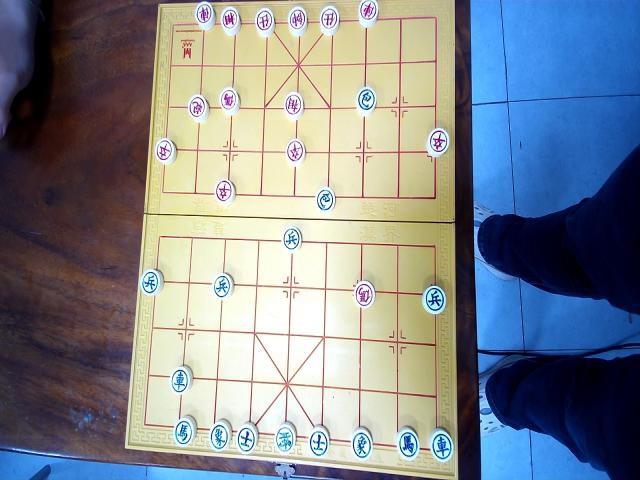piece: (429, 428, 453, 462), (396, 427, 419, 460), (173, 416, 196, 447), (236, 422, 258, 454), (351, 427, 372, 460), (209, 420, 231, 451), (426, 128, 449, 157), (275, 422, 296, 453), (170, 366, 192, 395), (422, 286, 445, 313), (309, 426, 329, 457), (255, 7, 275, 38), (188, 94, 209, 123), (356, 87, 376, 117), (220, 6, 240, 36), (140, 269, 163, 295), (219, 87, 240, 115), (354, 280, 375, 308), (214, 179, 235, 207), (288, 6, 307, 36), (155, 138, 176, 165), (195, 2, 215, 30), (320, 6, 339, 35), (212, 273, 233, 299), (281, 226, 301, 253), (284, 92, 303, 120), (286, 139, 305, 167), (359, 0, 378, 27), (316, 187, 335, 213)
